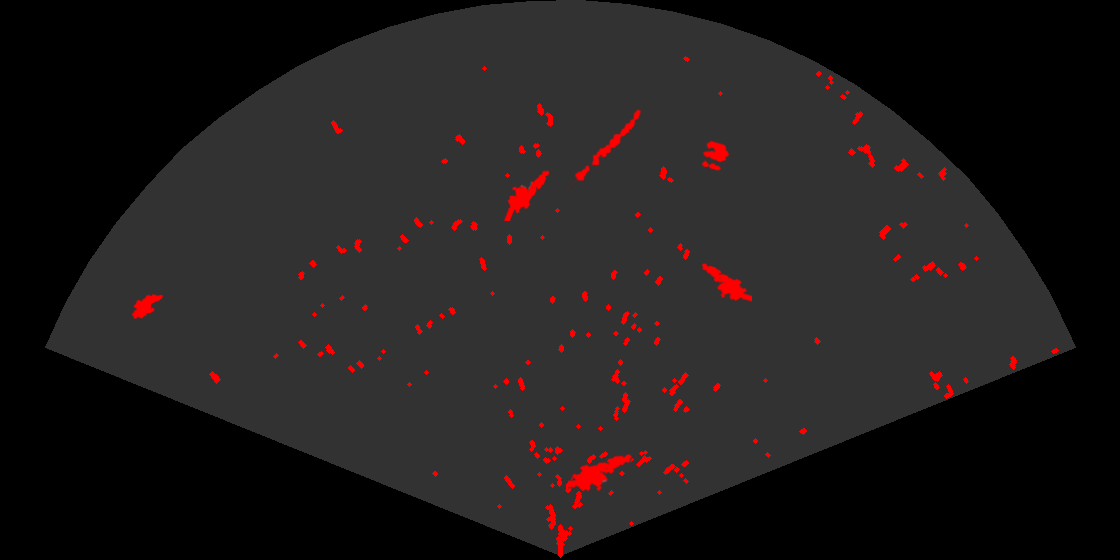AUV: (130, 292, 165, 321)
ball: (700, 139, 731, 173)
chain: (568, 108, 643, 191)
frogman: (568, 452, 634, 493), (502, 168, 551, 221), (700, 262, 752, 304)
